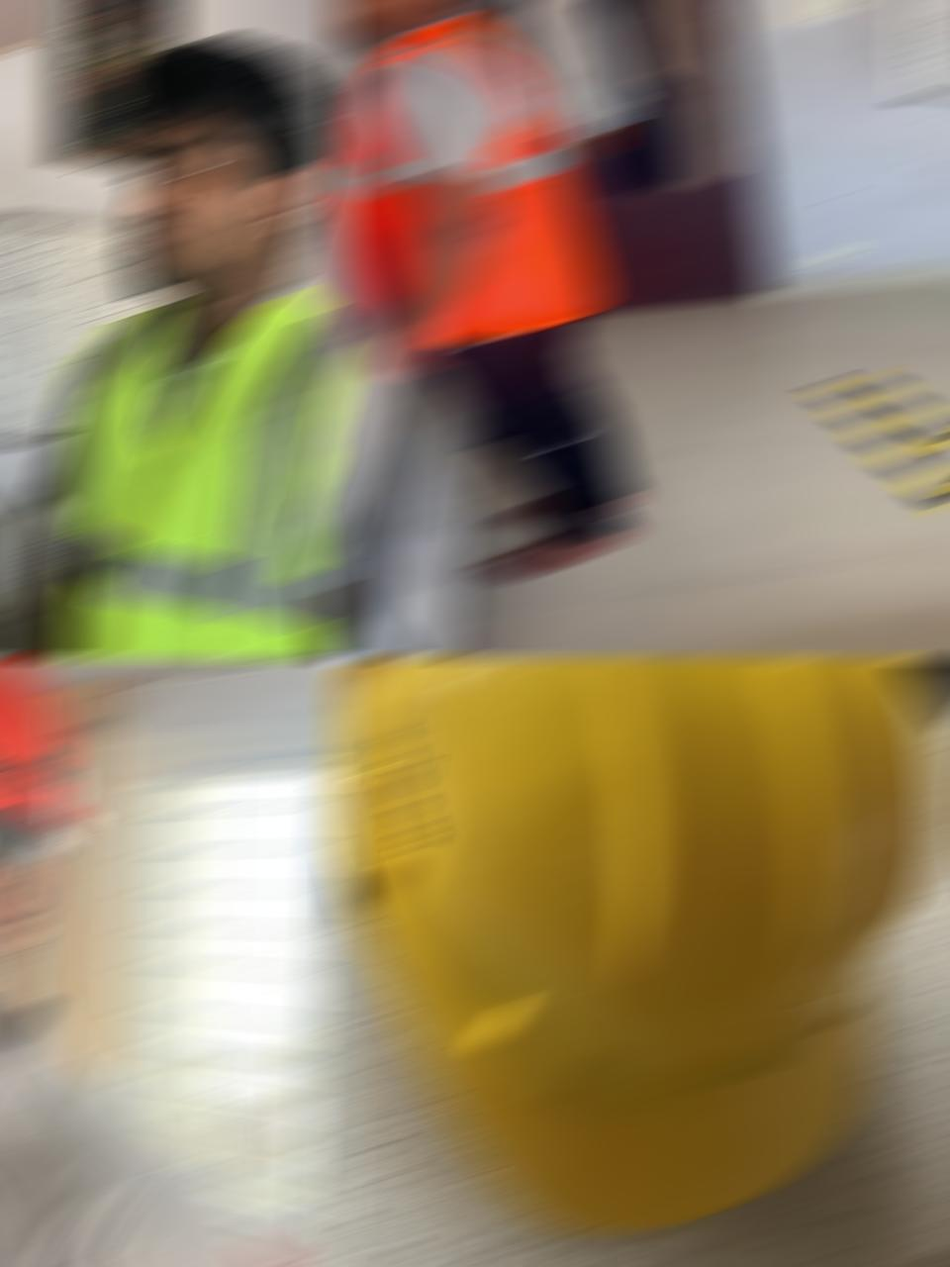BorderLine: (801, 374, 950, 509)
Helmet: (333, 661, 939, 1230), (0, 660, 94, 1045)
No_Helmet: (116, 37, 336, 250)
No_Vest: (0, 1002, 299, 1264)
Person: (0, 38, 350, 655), (0, 660, 299, 1264), (333, 2, 642, 578)
Vest: (52, 288, 350, 656), (333, 18, 609, 338)
